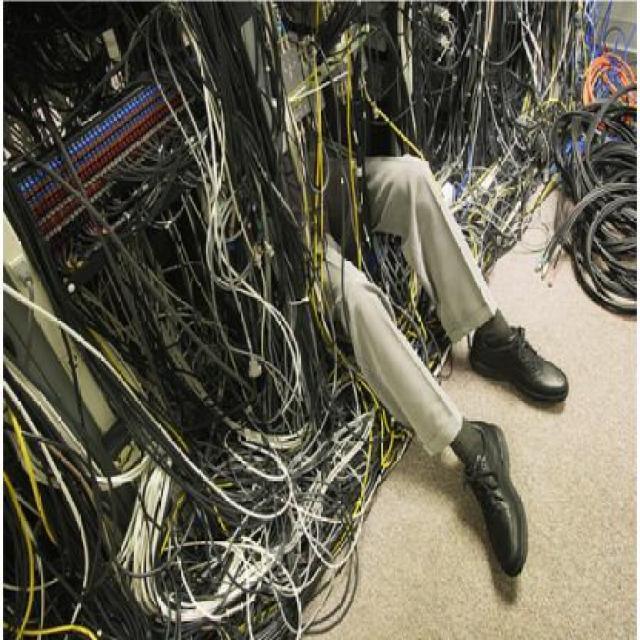garbage: (3, 0, 281, 638), (165, 12, 296, 436), (335, 0, 640, 157), (481, 123, 640, 260)
